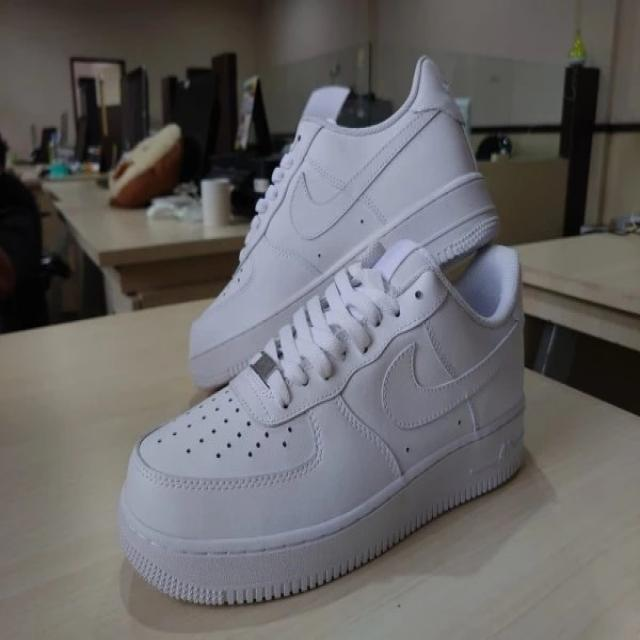nike original air force: (116, 239, 524, 608), (186, 52, 500, 389)
